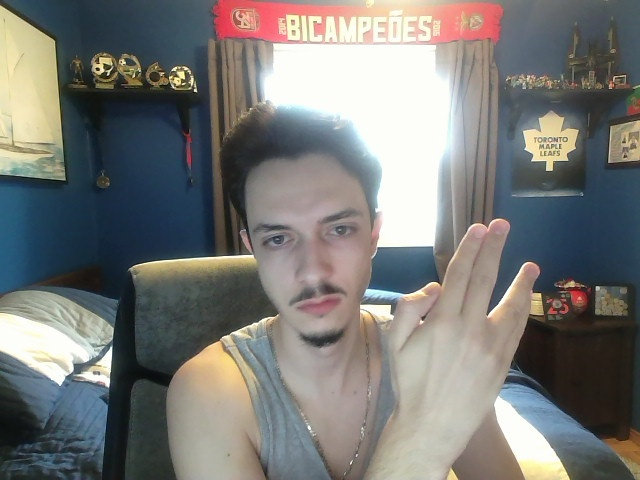LiveLong: (387, 218, 540, 437)
